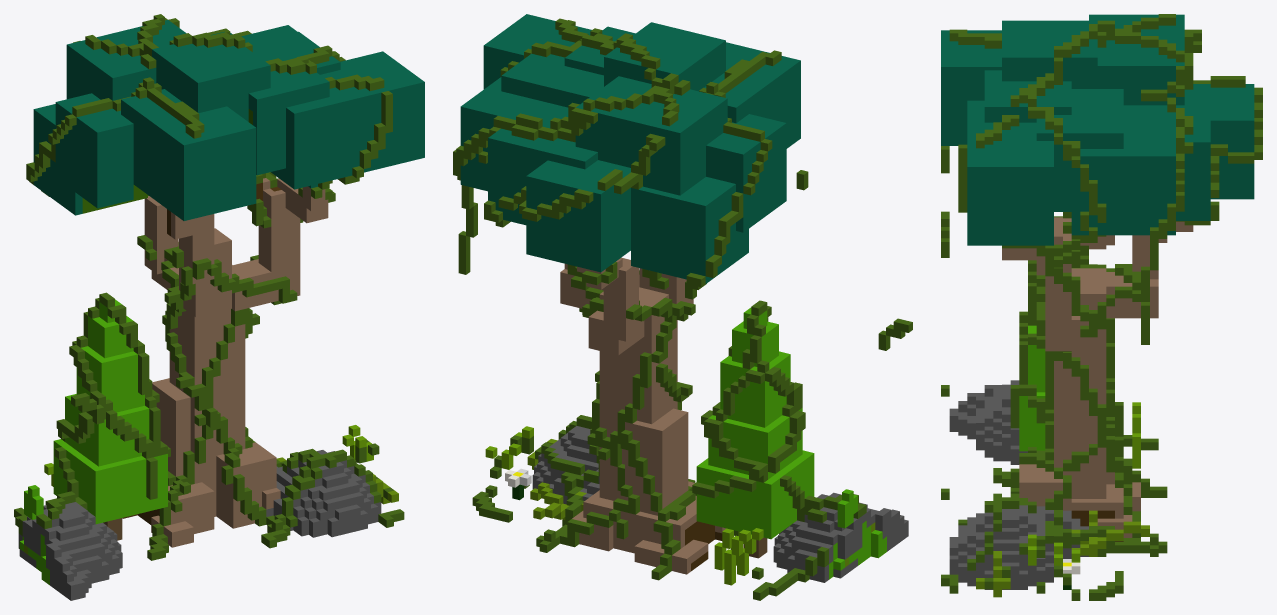
The model's file is Tiles 1 morceau 4.obj.
The picture shows the model from 3 angles, left to right: view 1: azimuth 30°, elevation 25°; view 2: azimuth 150°, elevation 25°; view 3: azimuth 270°, elevation 25°; orthographic projection. The views are drawn at different scales.
Parts seen in each view (by area): view 1: Tiles 1 morceau 4; view 2: Tiles 1 morceau 4; view 3: Tiles 1 morceau 4.
Part boxes in pixels (left/top/right/bottom): Tiles 1 morceau 4: left=14, top=14, right=424, bottom=600; Tiles 1 morceau 4: left=453, top=14, right=912, bottom=600; Tiles 1 morceau 4: left=941, top=14, right=1262, bottom=600.
Bounding box in the file's own units: 50 × 62 × 37.
1 material, 1 textured.
